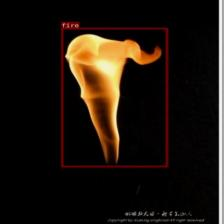fire: (60, 28, 168, 167)
